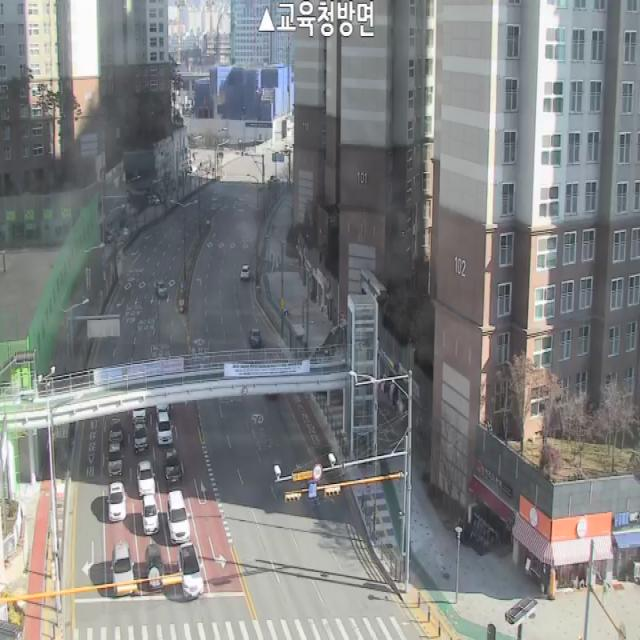Car: (179, 543, 204, 599), (112, 543, 135, 595), (167, 492, 190, 543), (146, 544, 164, 589), (106, 482, 125, 522), (141, 496, 160, 536), (136, 461, 156, 495), (106, 440, 124, 477), (164, 449, 182, 485), (156, 411, 172, 446), (134, 425, 149, 453), (109, 417, 123, 439), (132, 406, 146, 426), (249, 329, 261, 346), (156, 281, 167, 298), (240, 266, 250, 280), (156, 404, 170, 411)
